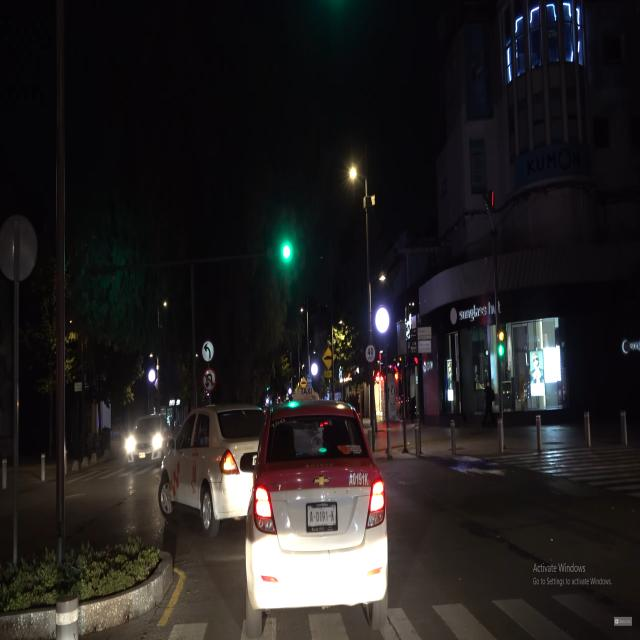headlights: (120, 432, 167, 458)
